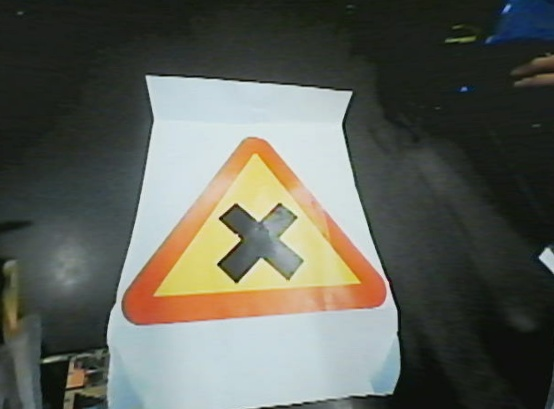junction: (129, 129, 383, 336)
